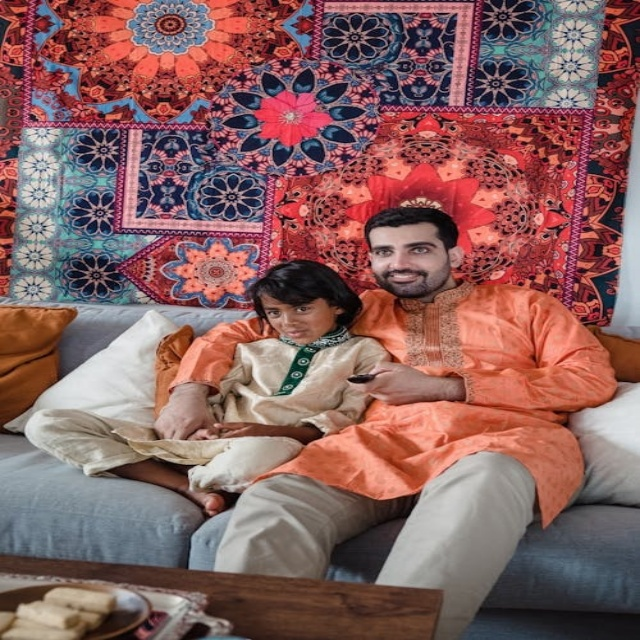Sin_gafas: (370, 236, 439, 260), (266, 300, 315, 317)
Sin_guantes: (343, 358, 435, 408), (153, 393, 219, 441)
Sin_mascara: (380, 267, 426, 290), (279, 323, 311, 343)
